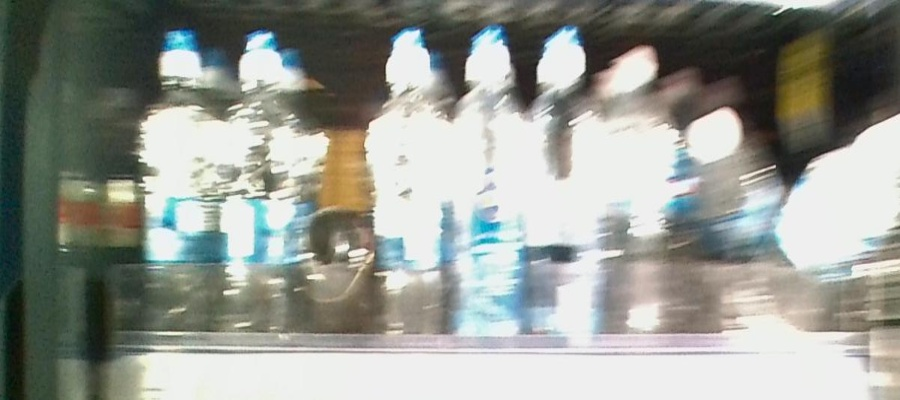bottle: (362, 27, 449, 339), (139, 27, 222, 335), (454, 23, 529, 342), (532, 28, 603, 339), (225, 22, 293, 337)
